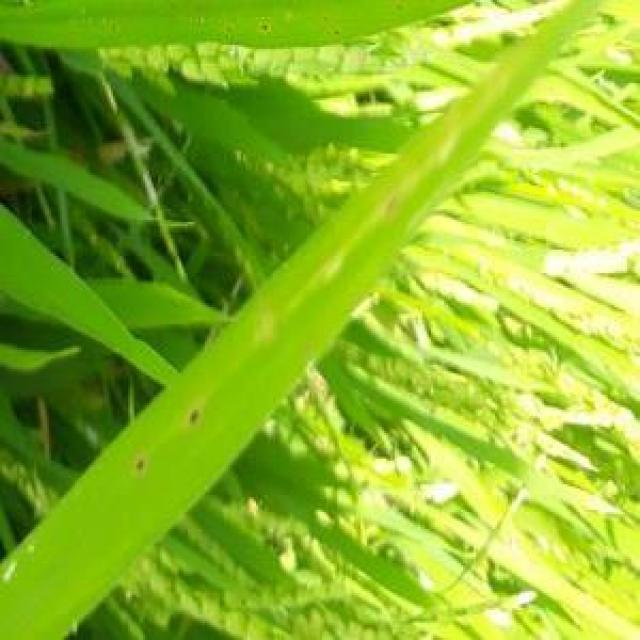brownspots: (179, 401, 211, 429), (126, 452, 162, 476)
